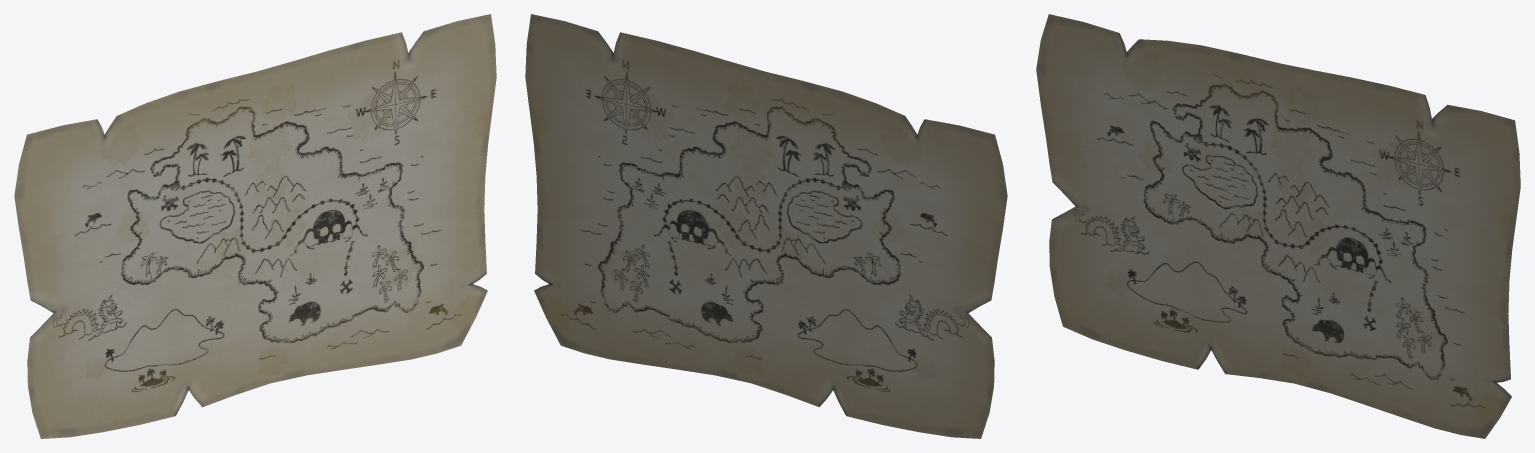
File: pirate_map.glb
3 renders of one model, left to right at view 1: azimuth 30°, elevation 25°; view 2: azimuth 150°, elevation 25°; view 3: azimuth 330°, elevation 25°, orthographic.
Parts seen in each view (by area): view 1: map_0; view 2: map_0; view 3: map_0.
Boxes of the visible parts, x1,y1,x2,y2 form: map_0: (14, 14, 496, 438); map_0: (525, 14, 1007, 438); map_0: (1036, 14, 1520, 438).
Bounding box in the file's own units: 1.99 × 1.3 × 3.02e-08.
1 material, 1 textured.
